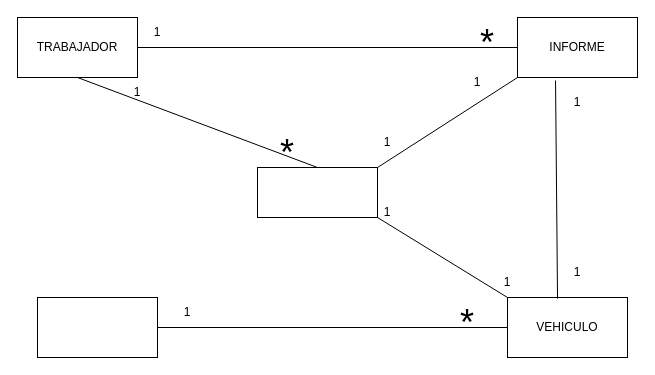
Some shapes in this 655 by 375 pixel diagram are drawn without their labels. The shapes that lost their labels are listed below. From the top down, each one's box as (x1, y1, x2, y2) in pixels, then its label:
(256, 166, 378, 218): CITA
(36, 296, 158, 358): PROPIETARIO
